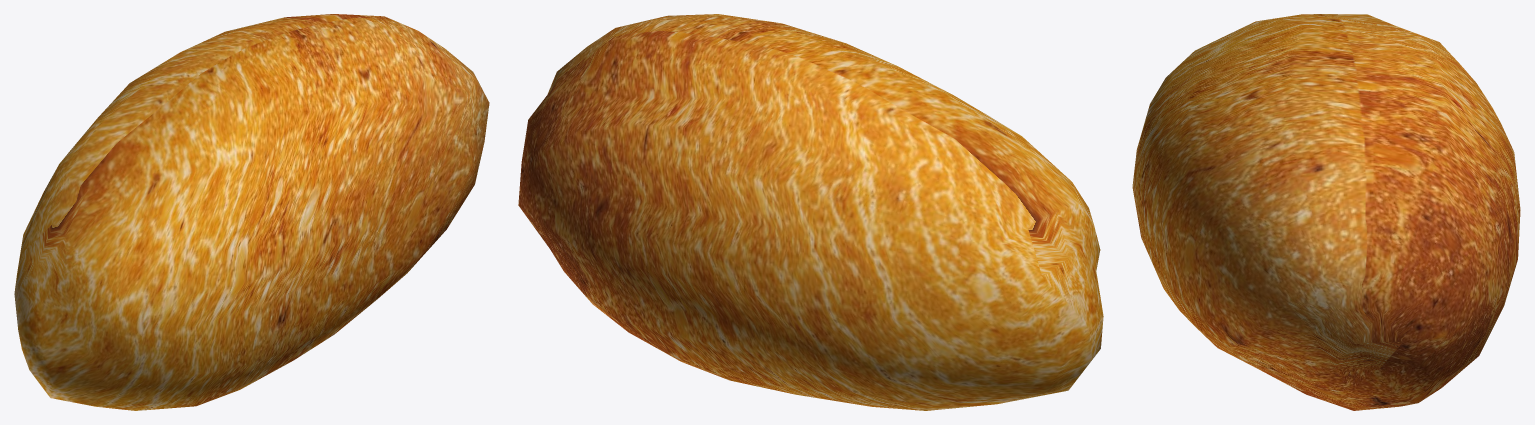
File: luti3.fbx
3 renders of one model, left to right at view 1: azimuth 30°, elevation 25°; view 2: azimuth 150°, elevation 25°; view 3: azimuth 270°, elevation 25°, orthographic. The views are drawn at different scales.
Visible parts, largest first — view 1: luti3; view 2: luti3; view 3: luti3.
Boxes of the visible parts, x1,y1,x2,y2 form: luti3: (14,14,489,410); luti3: (518,14,1103,410); luti3: (1132,14,1520,410).
Bounding box in the file's own units: 10.4 × 6.51 × 6.29.
